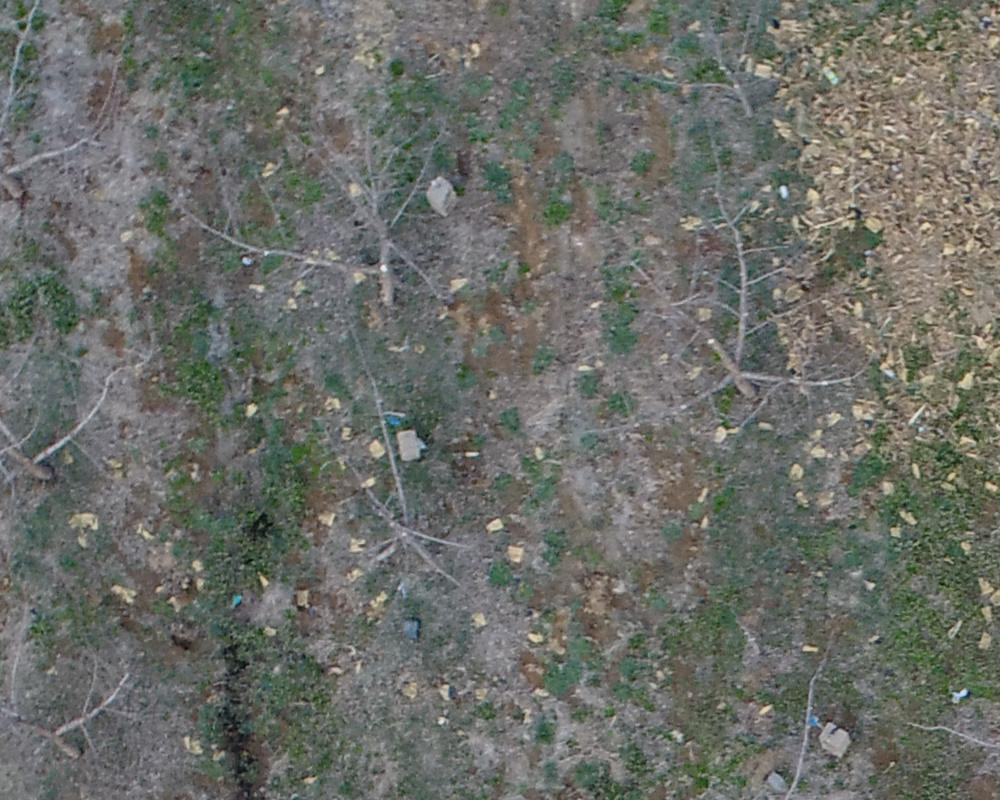apple: (579, 146, 881, 437), (179, 125, 473, 337), (306, 341, 492, 628), (10, 295, 144, 532), (695, 661, 879, 790), (10, 612, 135, 790)
